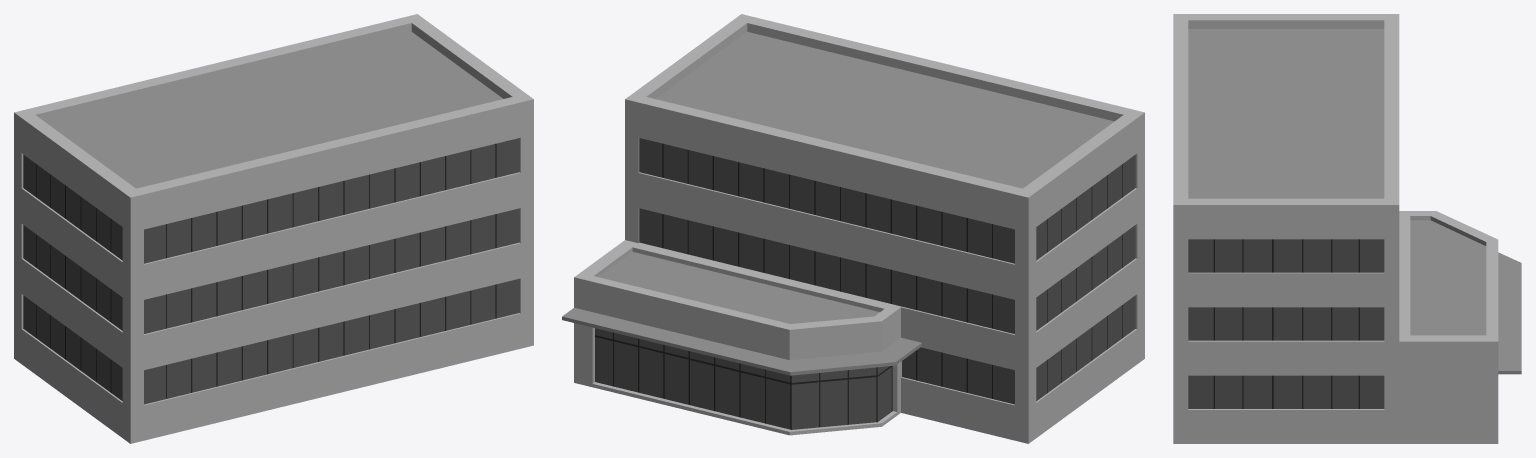
The model's file is spw-urban-bldg-14.glb.
3 views of the same model, side by side, from view 1: azimuth 30°, elevation 25°; view 2: azimuth 150°, elevation 25°; view 3: azimuth 270°, elevation 25° (orthographic). The views are drawn at different scales.
Parts seen in each view (by area): view 1: SPW_Urban_Bldg_14; view 2: SPW_Urban_Bldg_14; view 3: SPW_Urban_Bldg_14.
Boxes of the visible parts, x1,y1,x2,y2 form: SPW_Urban_Bldg_14: (14,14,533,443); SPW_Urban_Bldg_14: (562,14,1144,443); SPW_Urban_Bldg_14: (1173,14,1521,443).
Size of the model in its own units: 24 by 14 by 18.5.
1 material, 1 textured.
